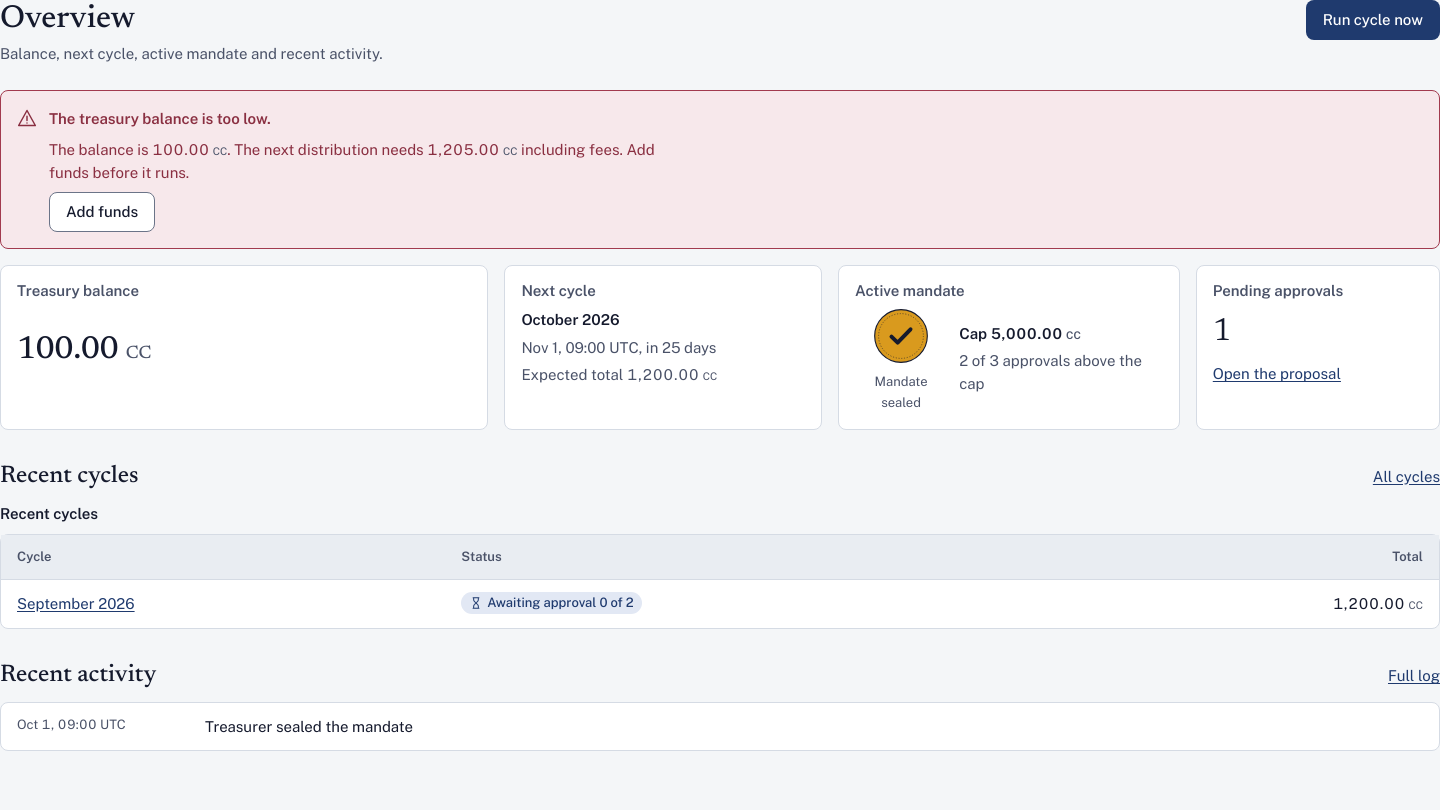
it: overview page › shows "Add funds" when the server reports a funds warning, and adds funds on LocalNet
Expected: the text "The treasury balance is too low." is shown, [49,110,271,127]
Click the button "Add funds" at (102, 212), box [49,192,155,232]
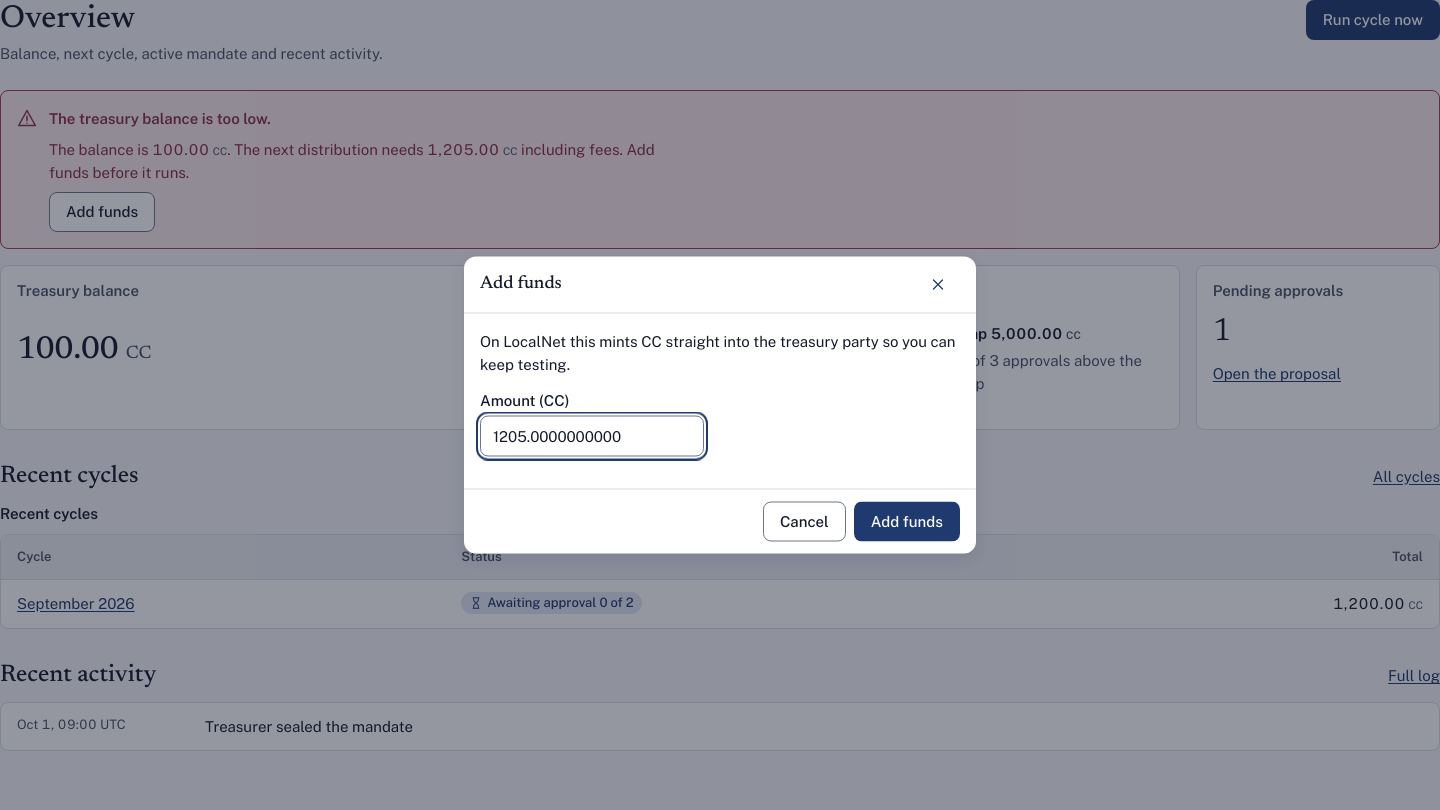
Now the field labelled "Amount (CC)" holds "1205.0000000000", box [480,415,704,457]
Click the button "Add funds" at (907, 522), box [854,502,960,542]
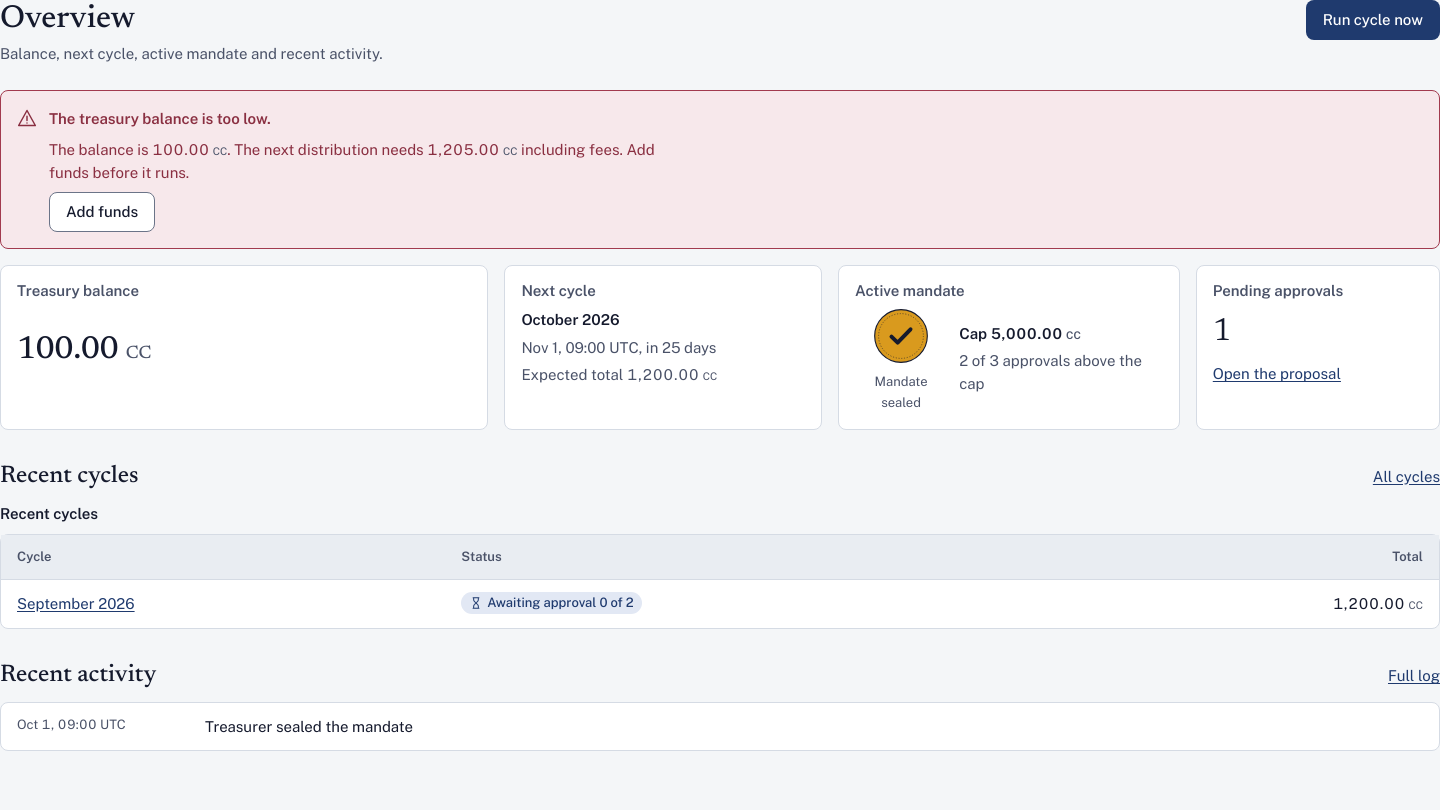
Now the dialog is gone
